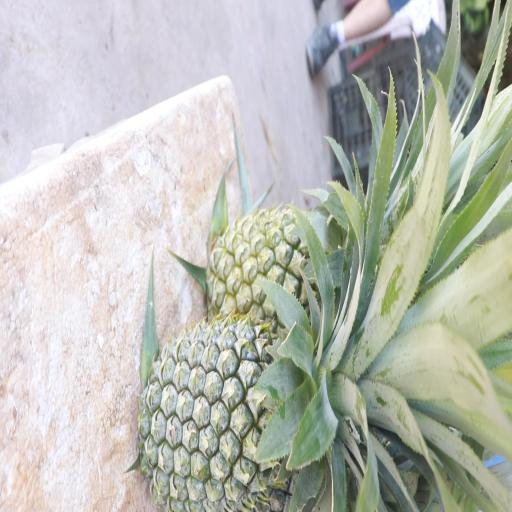Pineapple - v8 v1: (213, 192, 370, 326)
